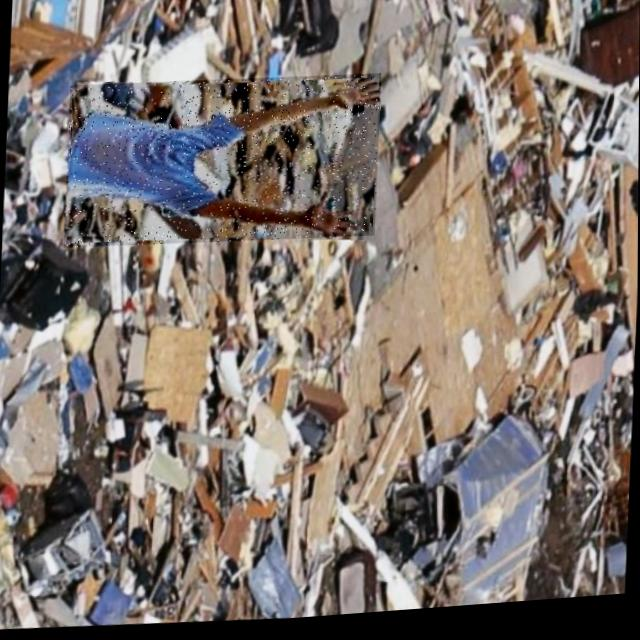Person in Rubble: (63, 68, 380, 259)
